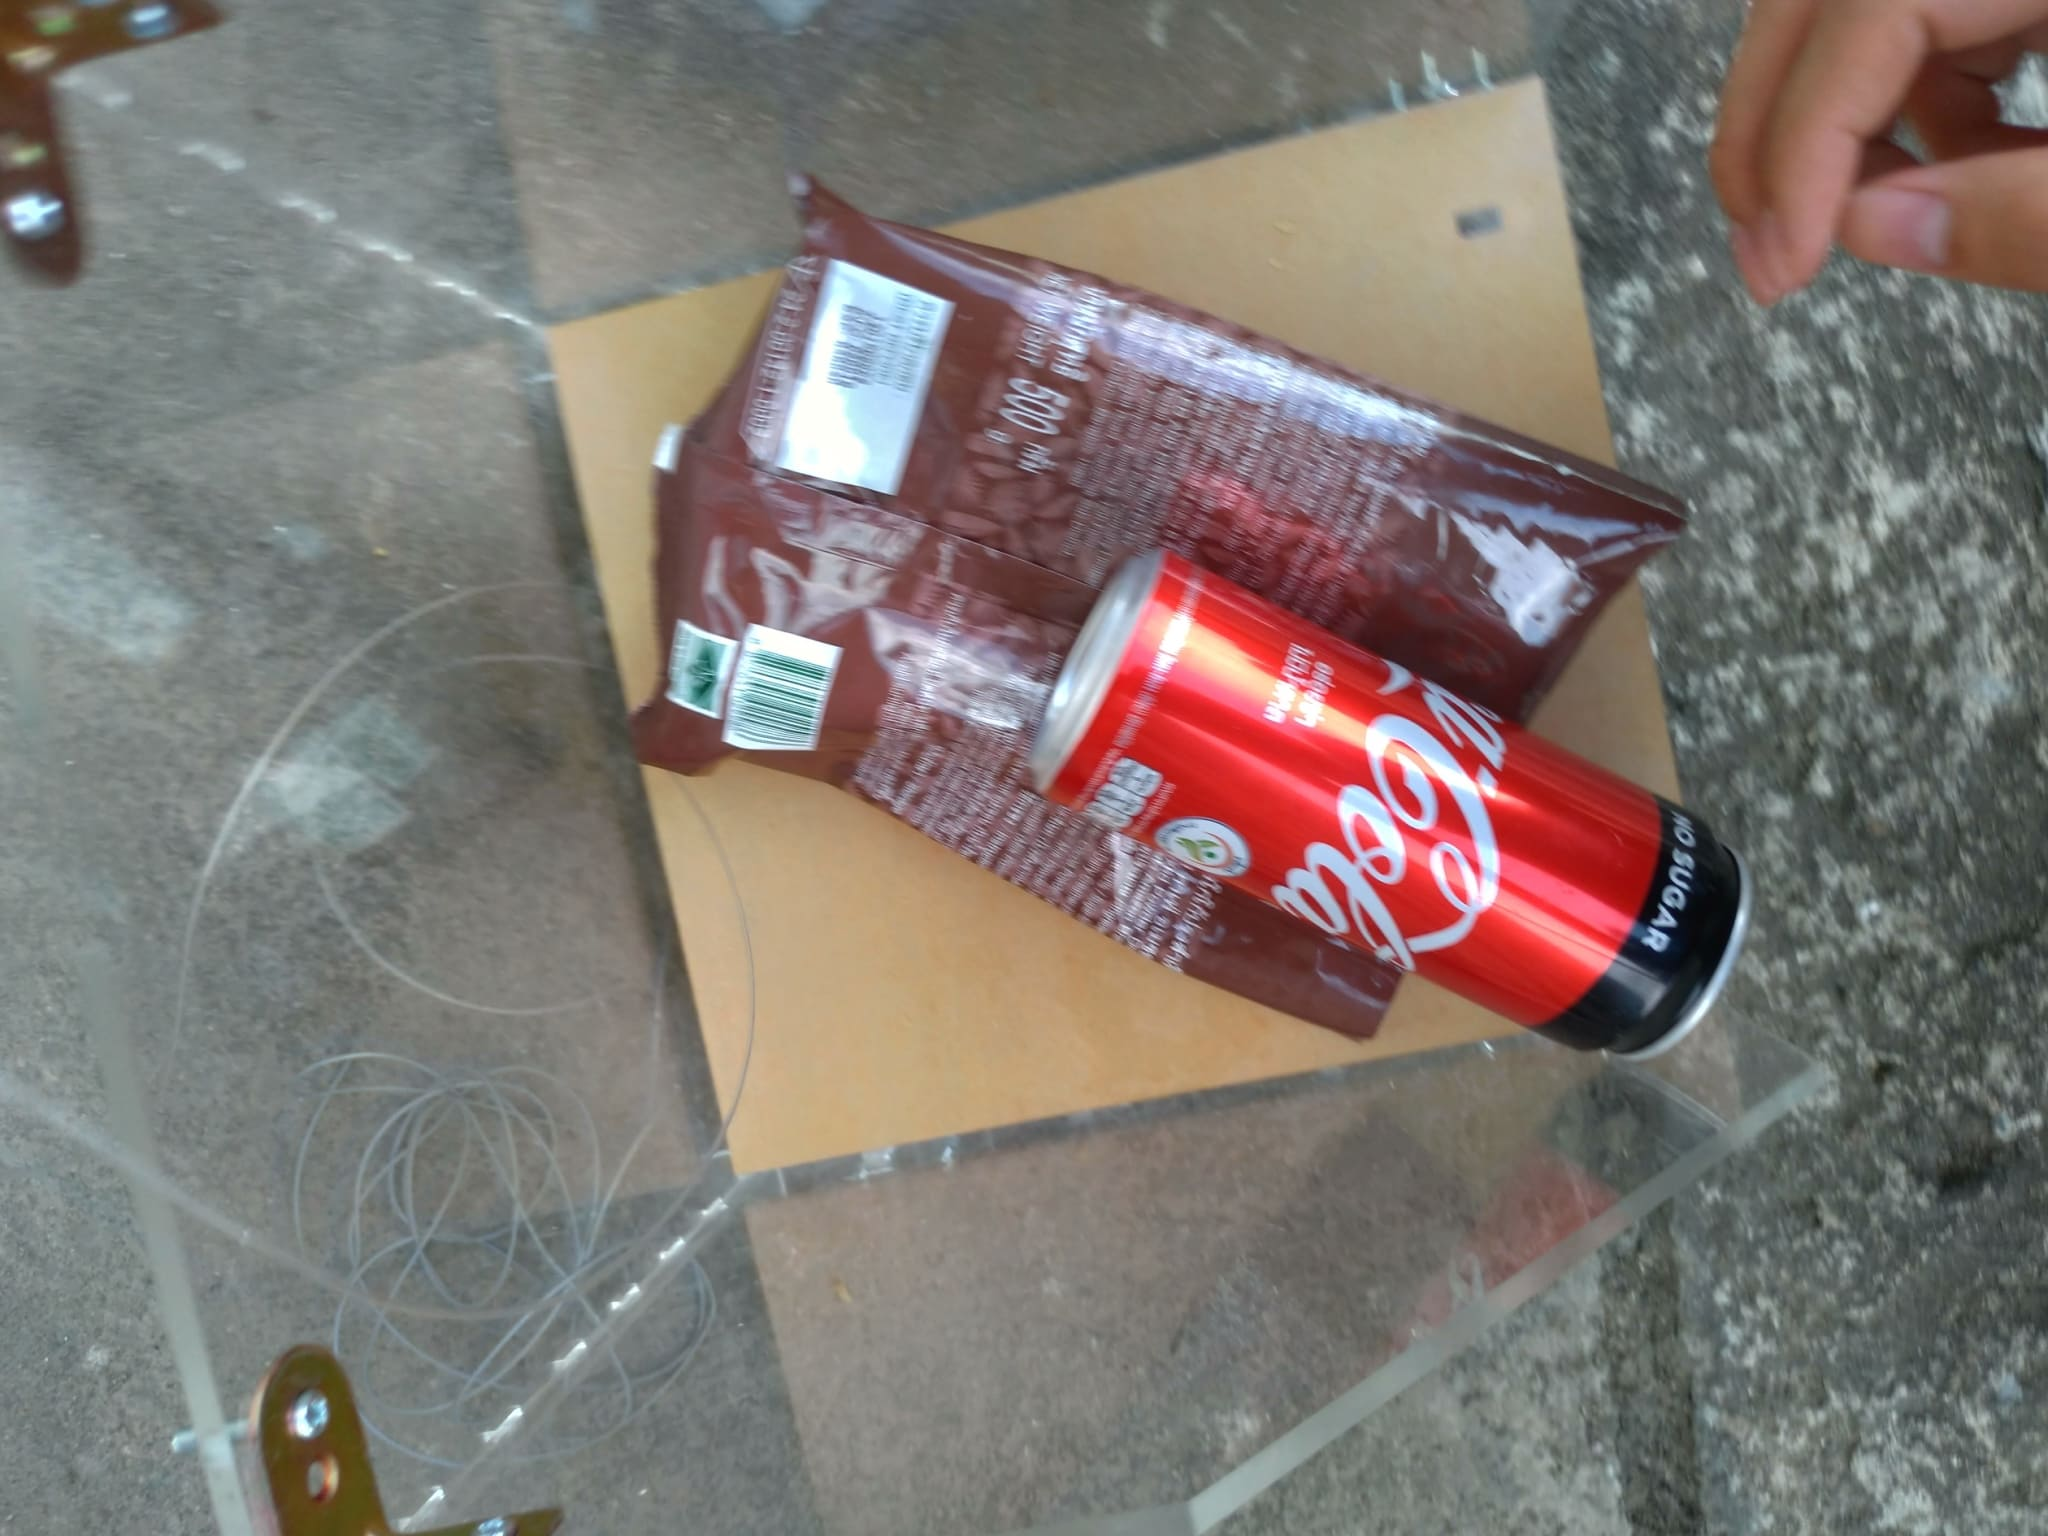AlCan: (1026, 552, 1755, 1068)
Others: (622, 173, 1692, 1046)
